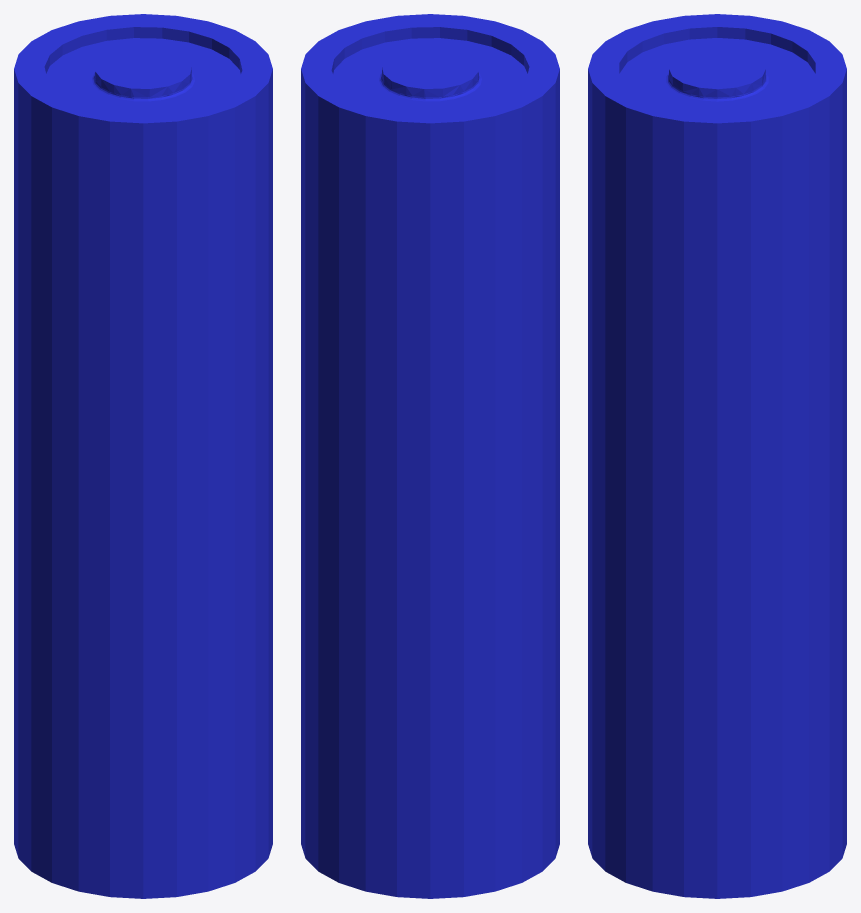
The model's file is Battery.dae.
3 renders of one model, left to right at view 1: azimuth 30°, elevation 25°; view 2: azimuth 150°, elevation 25°; view 3: azimuth 270°, elevation 25°, orthographic.
Visible parts, largest first — view 1: node; view 2: node; view 3: node.
Boxes of the visible parts, box(x1,y1,x2,y2) form: node: box(14, 14, 272, 898); node: box(301, 14, 559, 898); node: box(588, 14, 846, 898).
Bounding box in the file's own units: 0.0213 × 0.0213 × 0.0704.
